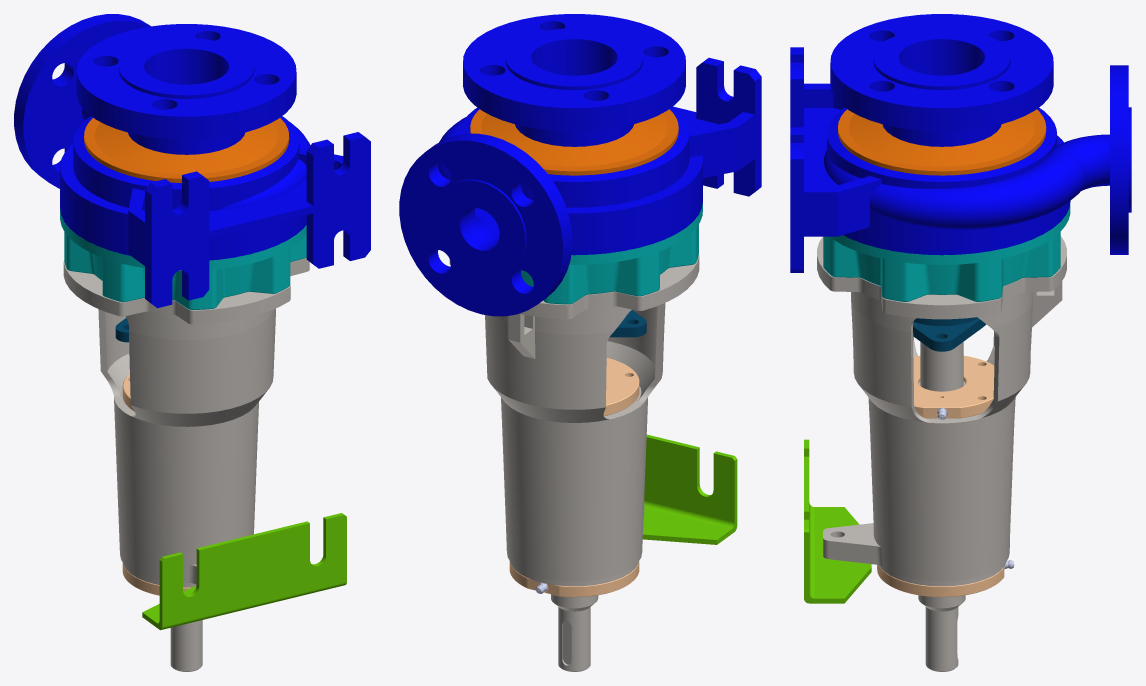
Rendered from bomba.glb.
3 renders of one model, left to right at view 1: azimuth 30°, elevation 25°; view 2: azimuth 150°, elevation 25°; view 3: azimuth 270°, elevation 25°, orthographic.
Visible parts, largest first — view 1: Pump Casin, House Bearing, support, Pump Coupling, Pump impellar, shaft004; view 2: Pump Casin, House Bearing, support, Pump impellar, Pump Coupling, shaft004, bearing cover, bearing cover001, pump packing gland, shaft005; view 3: Pump Casin, House Bearing, Pump Coupling, Pump impellar, support, bearing cover, shaft004, shaft002, pump packing gland, bearing cover001, shaft005.
Boxes of the visible parts, x1,y1,x2,y2 form: Pump Casin: [14, 14, 370, 308]; House Bearing: [63, 258, 309, 587]; support: [142, 513, 346, 630]; Pump Coupling: [60, 209, 306, 309]; Pump impellar: [84, 118, 289, 182]; shaft004: [170, 620, 202, 671]; Pump Casin: [399, 14, 761, 316]; House Bearing: [449, 254, 699, 586]; support: [642, 434, 737, 544]; Pump impellar: [470, 109, 678, 175]; Pump Coupling: [521, 203, 702, 304]; shaft004: [558, 607, 590, 671]; bearing cover: [603, 358, 639, 415]; bearing cover001: [509, 561, 639, 597]; pump packing gland: [609, 310, 646, 337]; shaft005: [551, 594, 598, 611]; Pump Casin: [790, 14, 1131, 272]; House Bearing: [817, 236, 1066, 586]; Pump Coupling: [823, 204, 1070, 301]; Pump impellar: [838, 109, 1046, 175]; support: [804, 439, 871, 603]; bearing cover: [913, 355, 994, 418]; shaft004: [925, 607, 958, 671]; shaft002: [920, 342, 963, 391]; pump packing gland: [913, 317, 986, 351]; bearing cover001: [877, 564, 1004, 597]; shaft005: [918, 595, 965, 611].
Size of the model in its own units: 0.1953 by 0.496 by 0.252.
